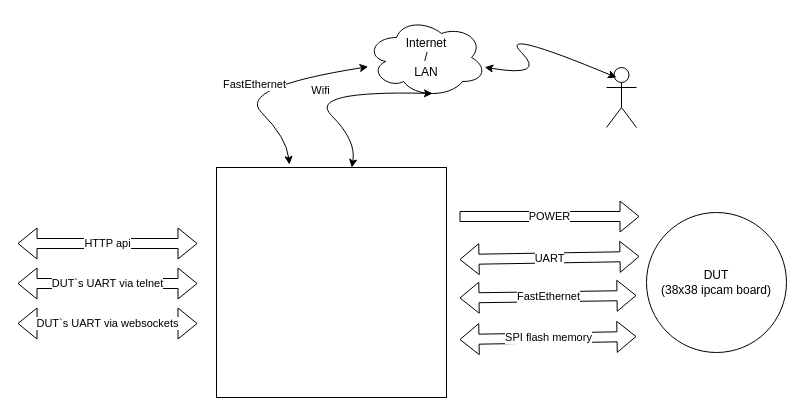
This 804x415 diagram has some shape labels left out. The shapes that lost their labels are listed below. From the top down, each one's centre as x and y in pixels, then its label:
the point at 621,97: Developer
the point at 331,282: TFTP server SPI nor flash programmer POWER control relay
